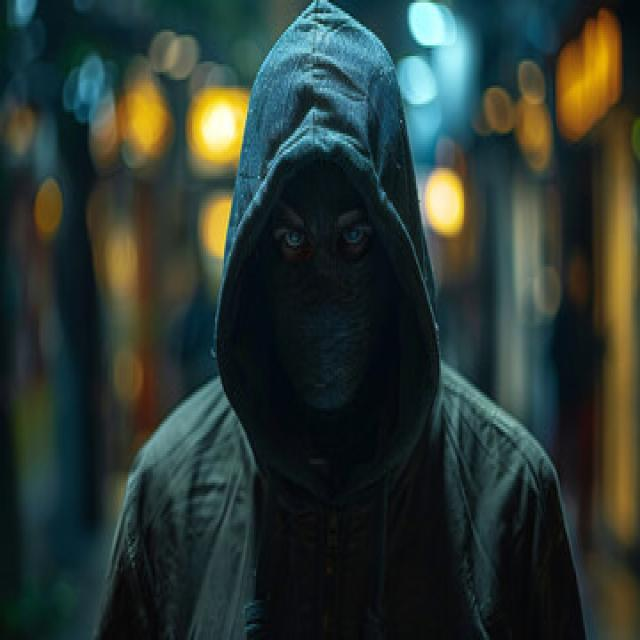person-with-mask: (96, 21, 605, 640)
